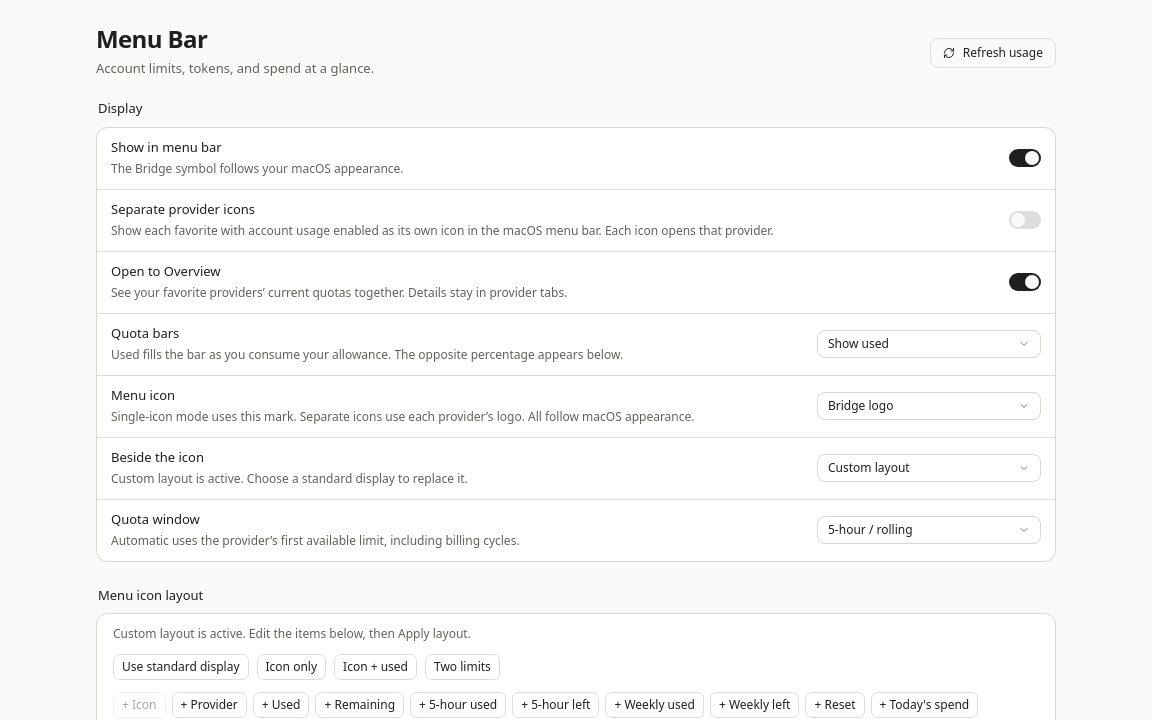
Test: shows the active custom layout and lets Today's spend replace a saved used-quota layout
Click the dropdown named "Beside the icon" at x=929, y=468, box top-left (817, 454), bottom-right (1041, 482)
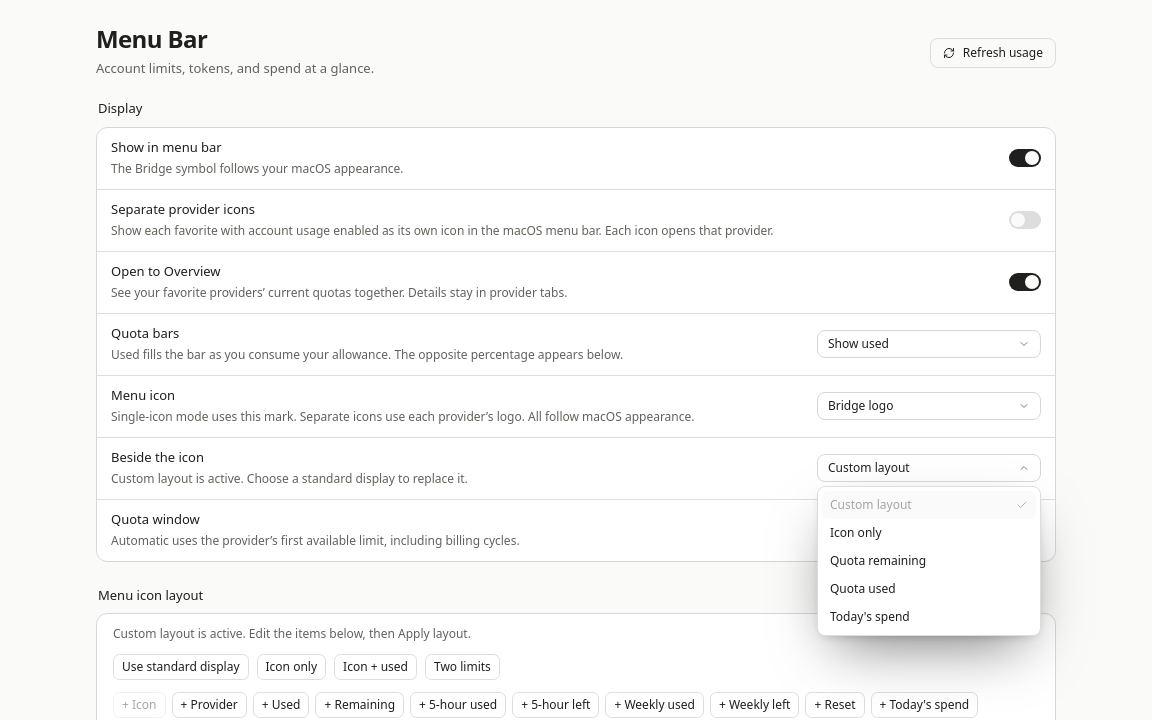
Click the option "Today's spend" at x=870, y=616, box top-left (830, 608), bottom-right (910, 625)
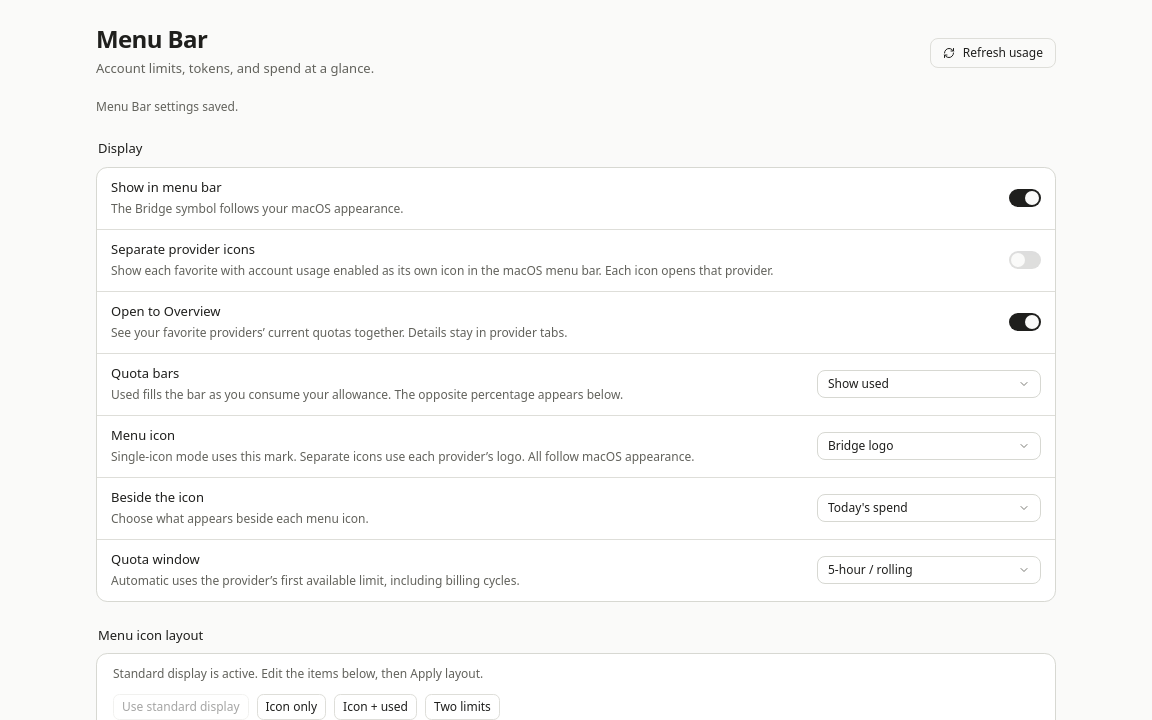
Now the dropdown named "Beside the icon" reads "Today's spend", box top-left (817, 494), bottom-right (1041, 522)
Now the text "Standard display is active." is shown, box top-left (113, 665), bottom-right (258, 682)
